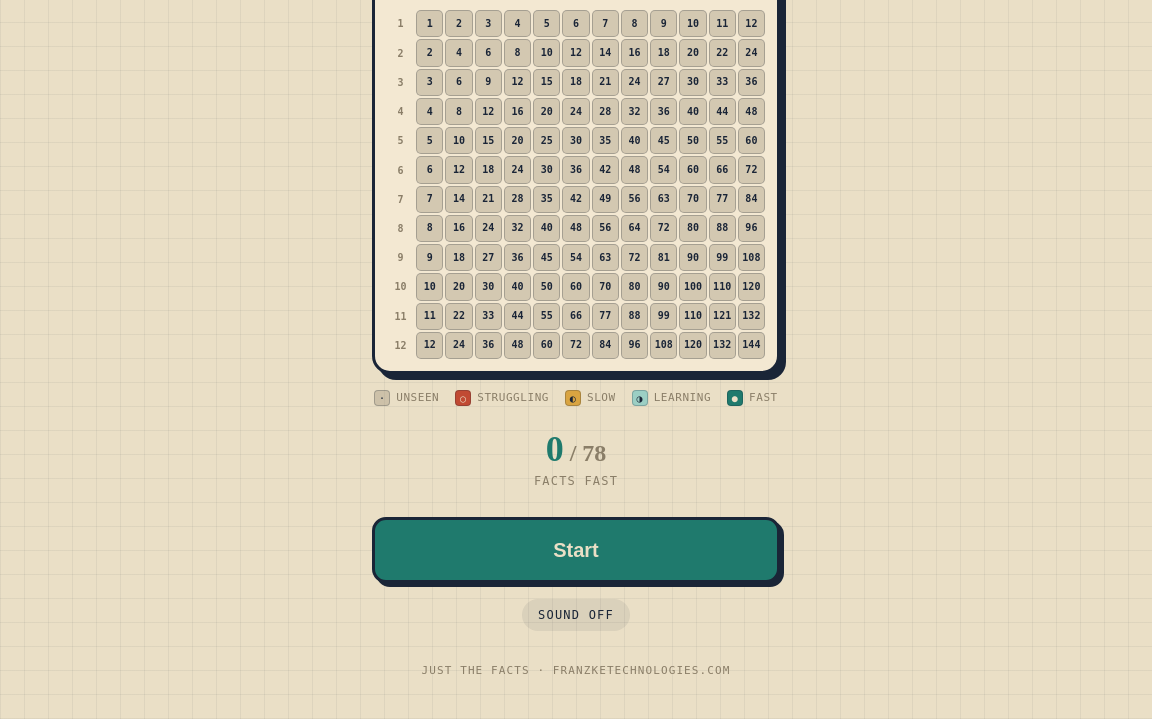
Test: Just the Facts smoke › starts a round and advances on a correct keypad answer
(page scrolled)
Expected: the text "facts fast" is shown, left=534, top=472, right=618, bottom=488
Click the button "Start" at point(576, 550), box left=372, top=516, right=780, bottom=582
(page scrolled)
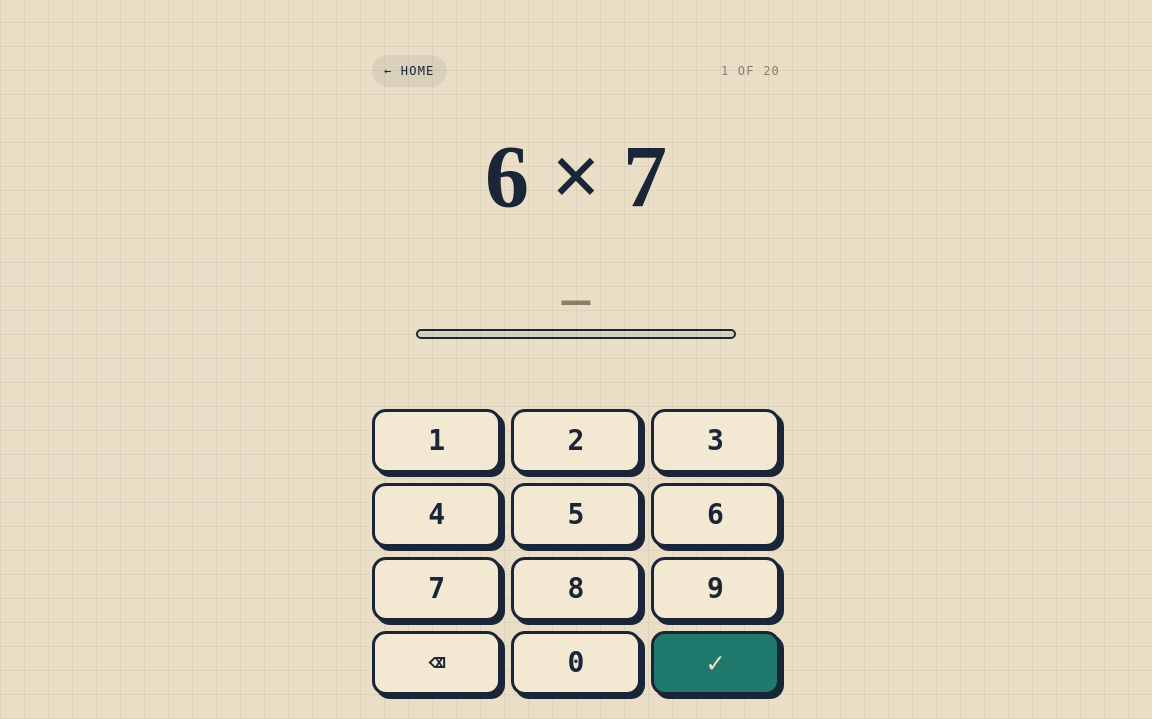
Result: the text "1 of 20" is shown at left=721, top=63, right=780, bottom=79
Click the button "4" at point(437, 515), box left=372, top=483, right=501, bottom=547
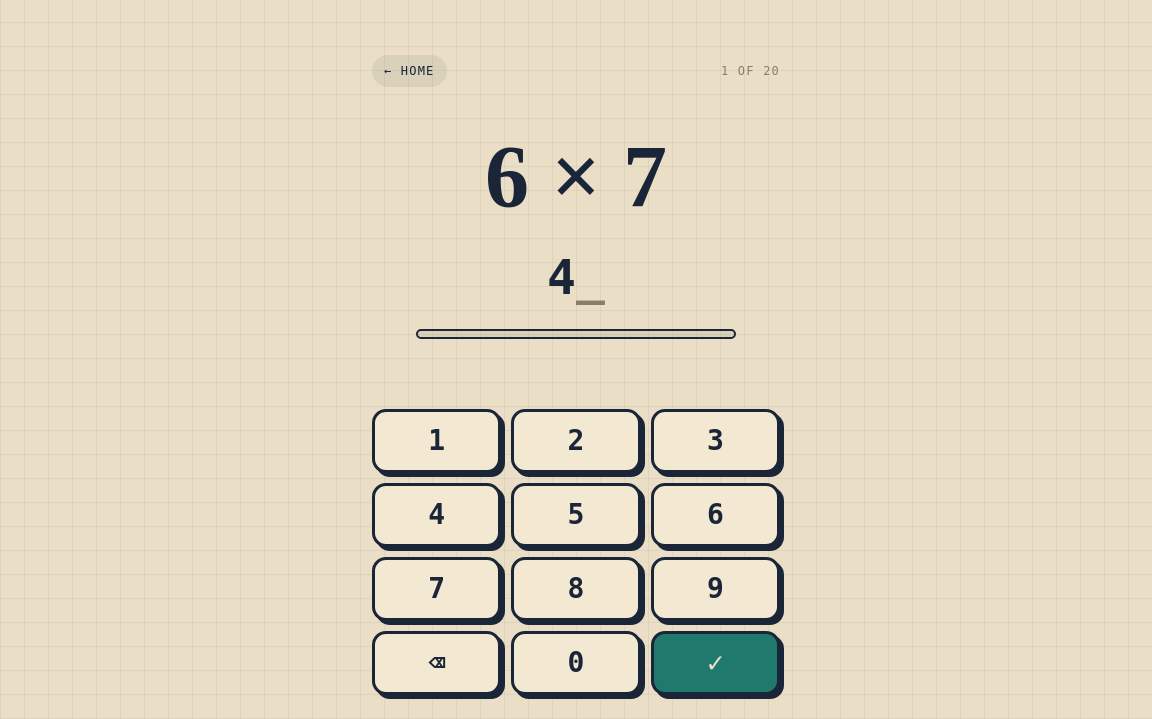
Click the button "2" at point(576, 441), box left=511, top=409, right=641, bottom=473
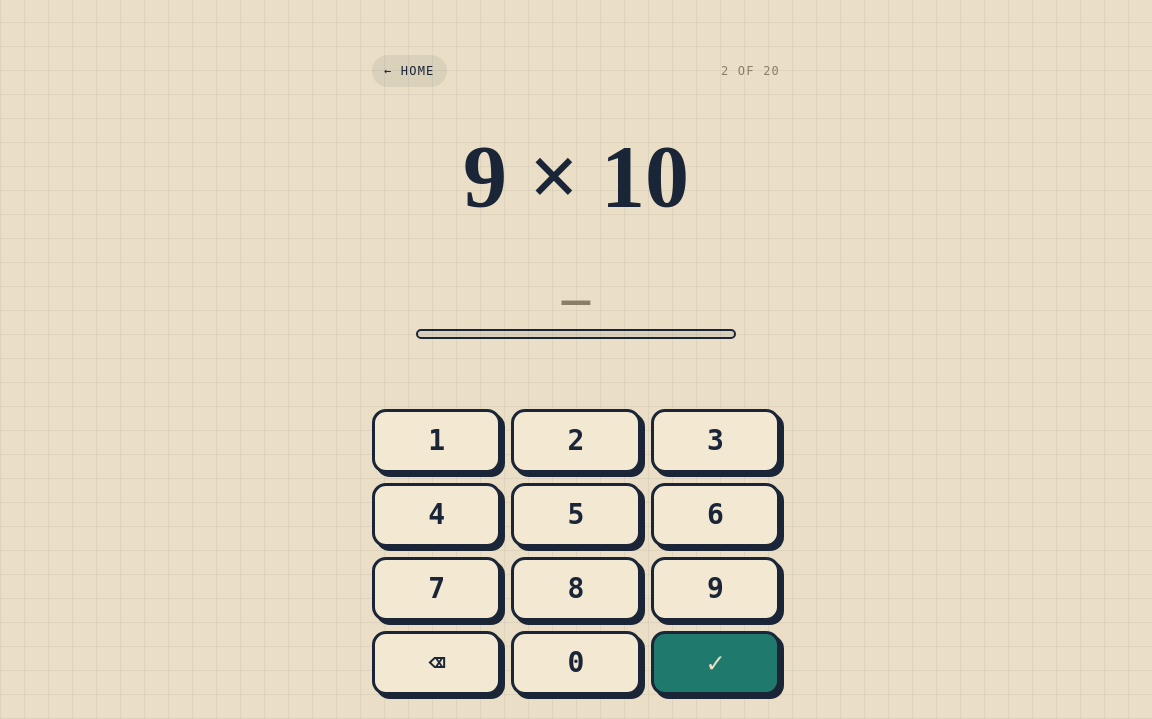
Result: the text "2 of 20" is shown at left=721, top=63, right=780, bottom=79
